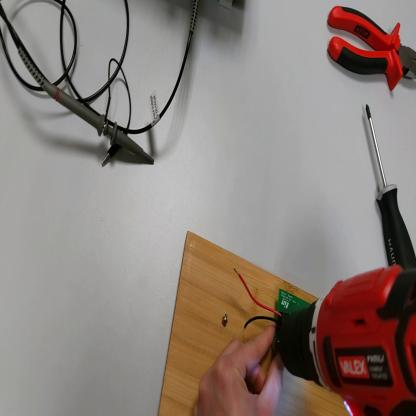electric screwdriver: (278, 261, 416, 415)
hand: (195, 333, 283, 414)
high voltage board: (234, 265, 311, 356)
oscilloscope: (218, 2, 245, 10)
oscilloscope probe tip: (19, 46, 157, 167)
pliers: (329, 5, 416, 89)
screwdriver-: (366, 105, 416, 267)
working area: (159, 232, 352, 416)
